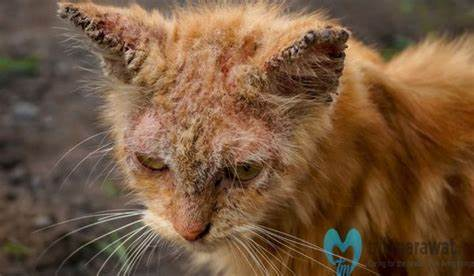kudis: (258, 24, 352, 108), (52, 3, 148, 81)
